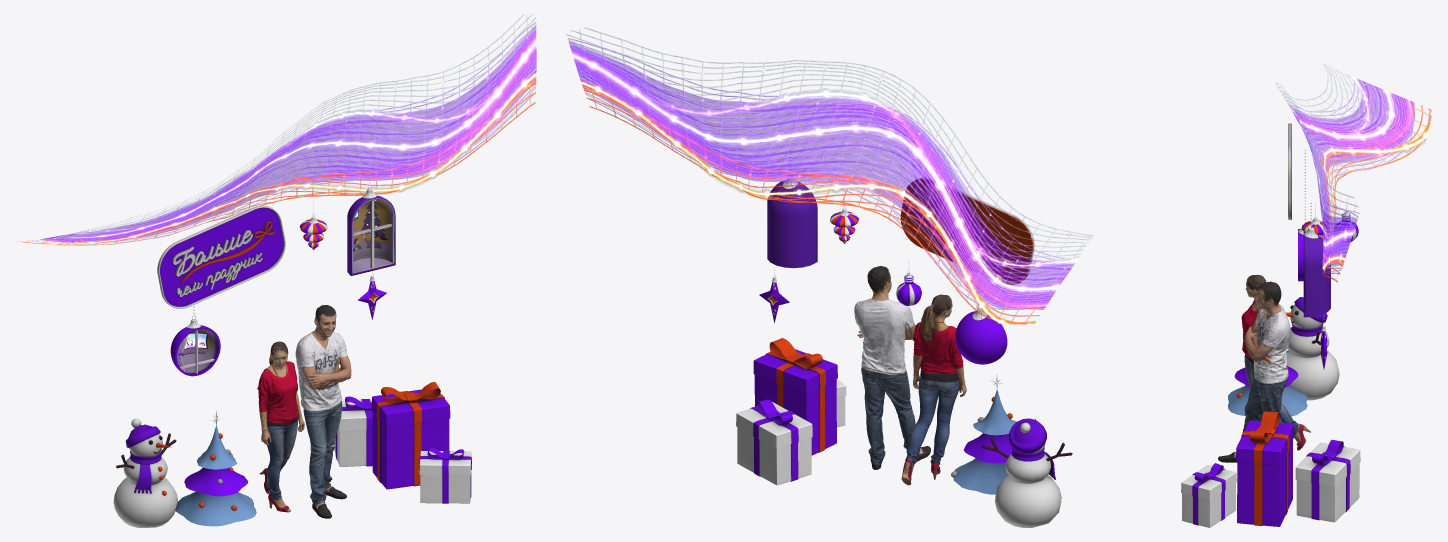
The model's file is rtk2027_v08.glb.
3 views of the same model, side by side, from view 1: azimuth 30°, elevation 25°; view 2: azimuth 150°, elevation 25°; view 3: azimuth 270°, elevation 25° (orthographic). The views are drawn at different scales.
Parts seen in each view (by area): view 1: back, Motto_plank, SYLT_Casual_Man-01_lowpoly, RTK_box_001.001, snowman, casualwoman_03_new_lowpoly, Cylinder.004, Plane.006, RTK_box_001.006, RTK_box_001.002, Circle.002; view 2: back, SYLT_Casual_Man-01_lowpoly, Motto_plank, casualwoman_03_new_lowpoly, RTK_box_001.001, snowman, RTK_box_001.002, Plane.006, Cylinder.004, Circle.002; view 3: back, RTK_box_001.001, SYLT_Casual_Man-01_lowpoly, RTK_box_001.002, snowman, RTK_box_001.006, Plane.006, casualwoman_03_new_lowpoly, Cylinder.004, Motto_plank.
Part boxes in pixels (left/top/right/bottom): back: left=16, top=14, right=536, bottom=245; Motto_plank: left=157, top=205, right=285, bottom=308; SYLT_Casual_Man-01_lowpoly: left=295, top=305, right=351, bottom=518; RTK_box_001.001: left=371, top=381, right=450, bottom=489; snowman: left=113, top=418, right=177, bottom=527; casualwoman_03_new_lowpoly: left=257, top=341, right=304, bottom=512; Cylinder.004: left=175, top=426, right=256, bottom=526; Plane.006: left=347, top=195, right=395, bottom=275; RTK_box_001.006: left=419, top=447, right=471, bottom=503; RTK_box_001.002: left=334, top=396, right=372, bottom=466; Circle.002: left=170, top=325, right=220, bottom=376; back: left=566, top=27, right=1092, bottom=325; SYLT_Casual_Man-01_lowpoly: left=854, top=266, right=930, bottom=469; Motto_plank: left=900, top=177, right=1034, bottom=284; casualwoman_03_new_lowpoly: left=901, top=294, right=966, bottom=485; RTK_box_001.001: left=753, top=338, right=837, bottom=455; snowman: left=982, top=418, right=1072, bottom=527; RTK_box_001.002: left=736, top=399, right=812, bottom=485; Plane.006: left=767, top=180, right=817, bottom=268; Cylinder.004: left=953, top=390, right=1016, bottom=494; Circle.002: left=955, top=311, right=1007, bottom=364; back: left=1276, top=63, right=1433, bottom=282; RTK_box_001.001: left=1236, top=411, right=1294, bottom=526; SYLT_Casual_Man-01_lowpoly: left=1218, top=281, right=1290, bottom=462; RTK_box_001.002: left=1295, top=439, right=1360, bottom=522; snowman: left=1286, top=297, right=1339, bottom=400; RTK_box_001.006: left=1181, top=463, right=1236, bottom=527; Plane.006: left=1303, top=231, right=1330, bottom=317; casualwoman_03_new_lowpoly: left=1241, top=274, right=1310, bottom=450; Cylinder.004: left=1228, top=352, right=1307, bottom=416; Motto_plank: left=1288, top=123, right=1291, bottom=219.
Bounding box in the file's own units: 5 × 4.1 × 2.24.
Materials: 16 (12 with a texture image).
